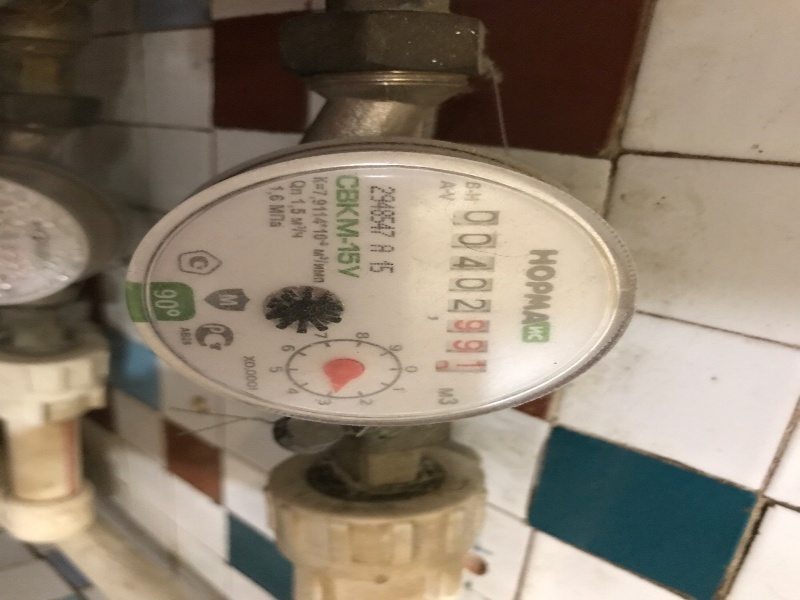meter: (441, 209, 504, 379)
